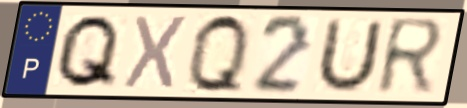2: (250, 11, 320, 98)
Q: (51, 12, 124, 91), (187, 10, 252, 97)
R: (373, 15, 449, 99)
U: (311, 16, 387, 96)
X: (119, 13, 192, 93)
